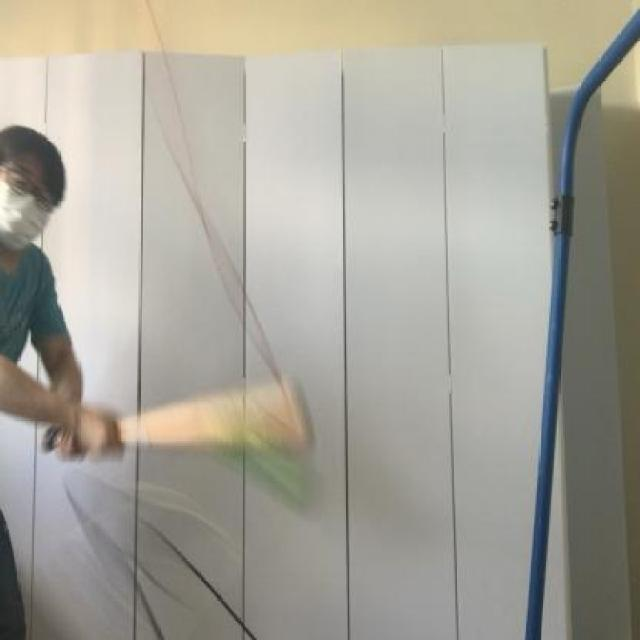baseball: (193, 392, 336, 528)
